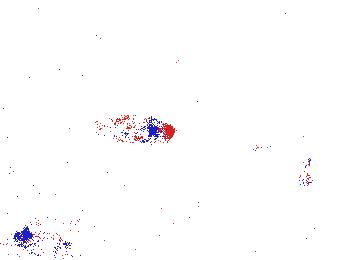X-ray fish: (100, 111, 172, 144), (297, 157, 317, 187)
red belly glassfish: (248, 140, 290, 157)
